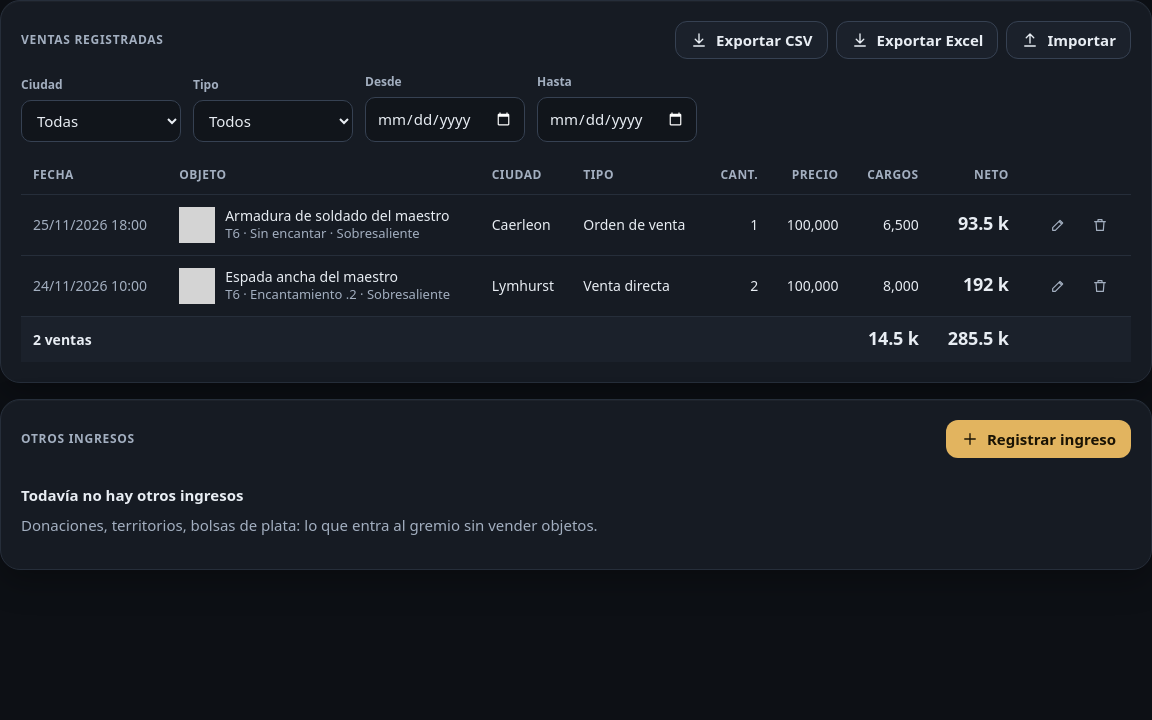
Test case: permisos y acciones › el admin elimina una venta confirmando en dos pasos
Expected: the table is shown, [21,156,1131,362]
Note: la venta 1 (Espada) es la segunda fila, porque la más reciente va arriba
Click the button named "eliminar venta de espada": x=1100, y=286 [1081,272,1119,300]
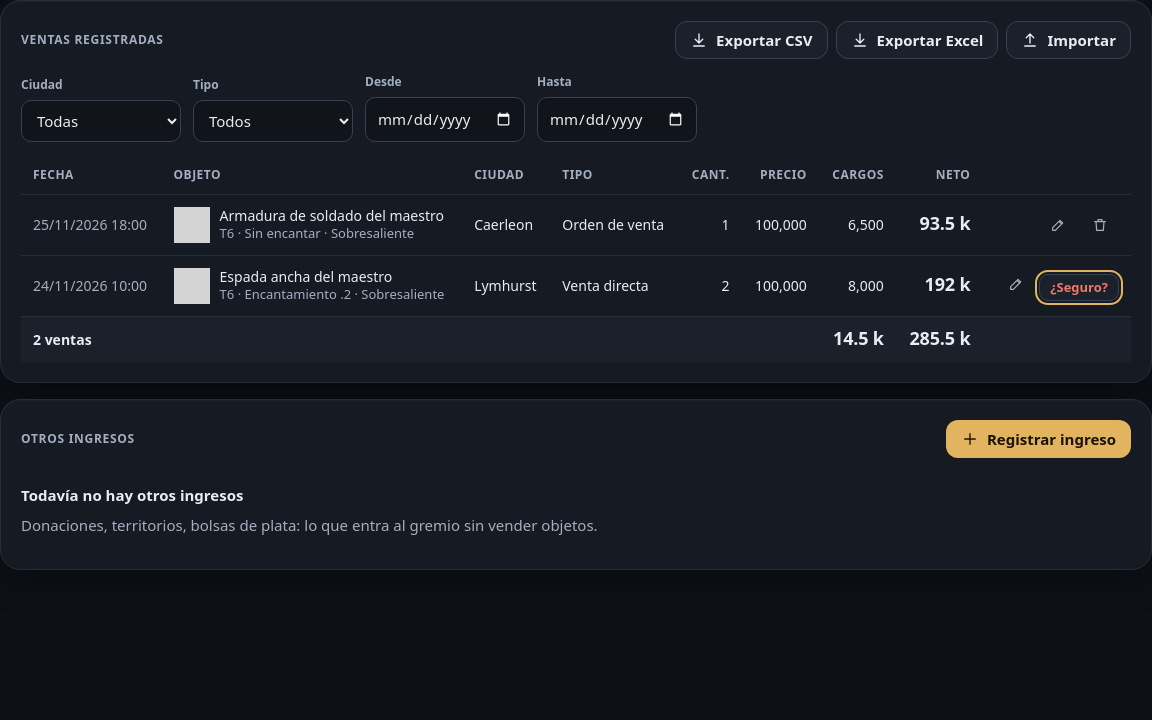
Click the button with aria-label "confirmar eliminación": x=1079, y=288 [1039,274,1119,301]
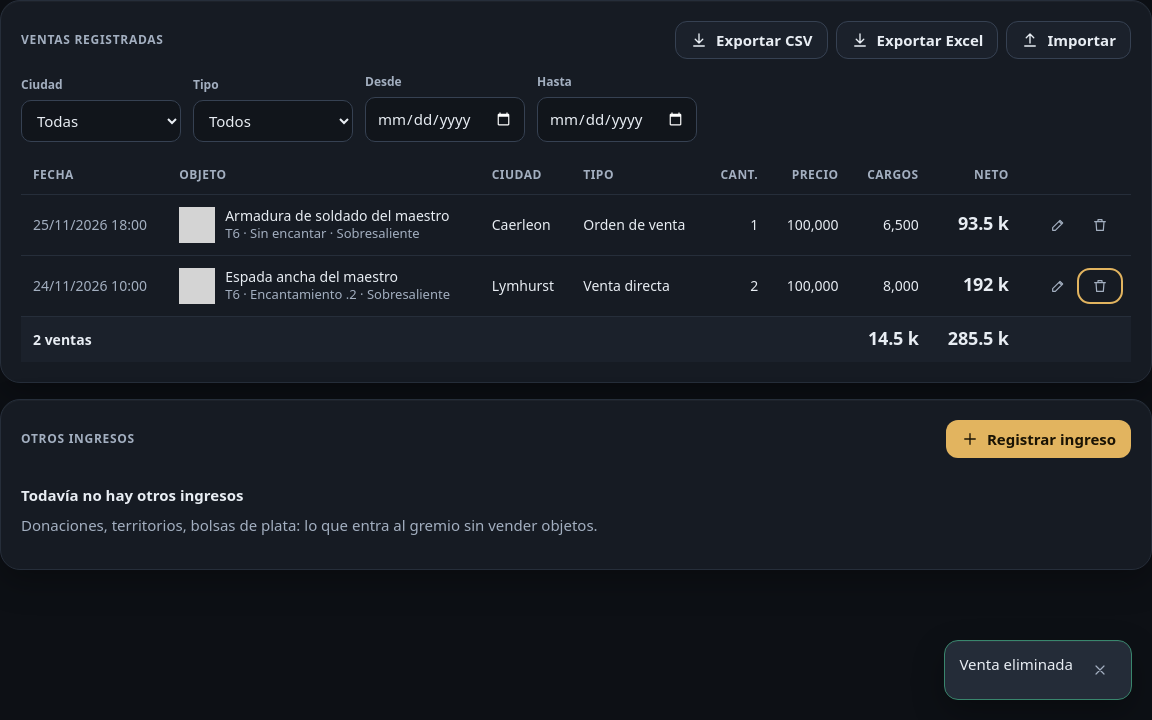
Result: the text "Venta eliminada" is shown at [959,653,1073,676]
